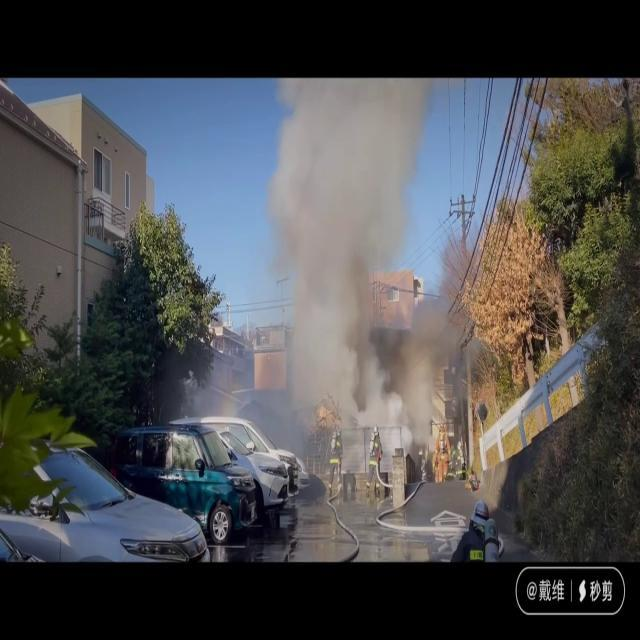Smoke: (210, 78, 462, 448)
